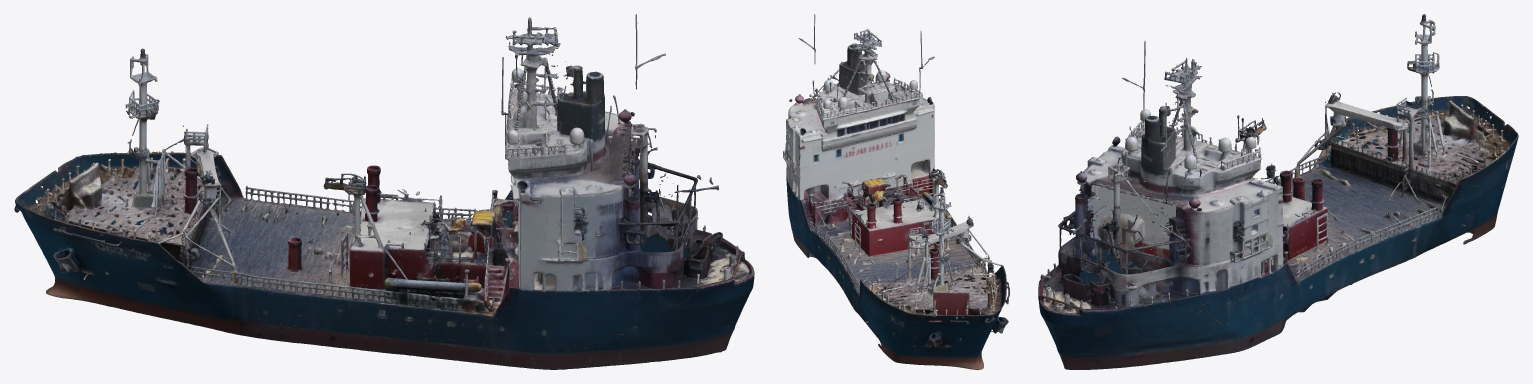
Rendered from baseline_2026-05-06T142546.585.glb.
3 views of the same model, side by side, from view 1: azimuth 30°, elevation 25°; view 2: azimuth 150°, elevation 25°; view 3: azimuth 270°, elevation 25° (orthographic). The views are drawn at different scales.
Visible parts, largest first — view 1: world; view 2: world; view 3: world.
Boxes of the visible parts, x1,y1,x2,y2 form: world: [14, 14, 754, 369]; world: [783, 14, 1009, 369]; world: [1038, 14, 1518, 369].
Size of the model in its own units: 1 by 0.5859 by 0.9729.
Materials: 1 (1 with a texture image).
